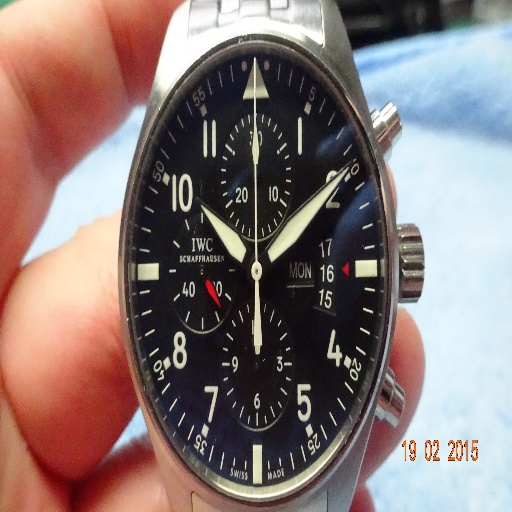hand: (0, 0, 427, 511)
